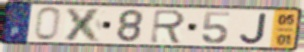0: (32, 5, 66, 42)
5: (200, 10, 232, 45)
8: (116, 8, 145, 43)
J: (238, 12, 269, 46)
R: (148, 8, 188, 45)
X: (62, 6, 105, 43)
